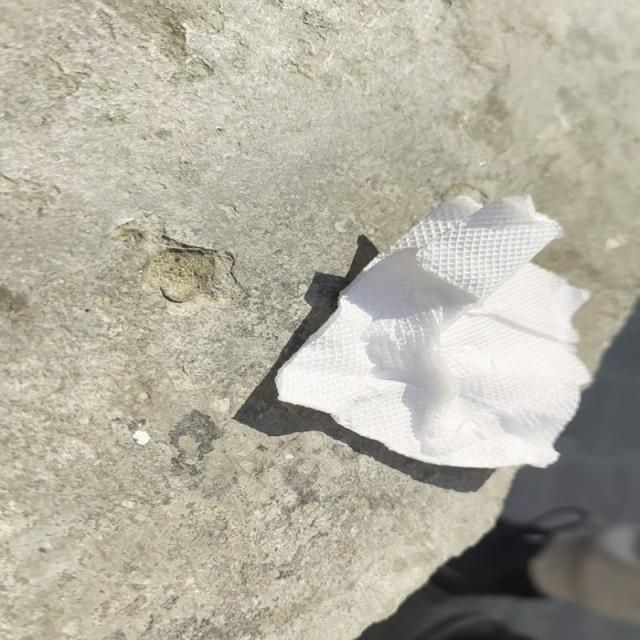tissue: (269, 187, 599, 478)
